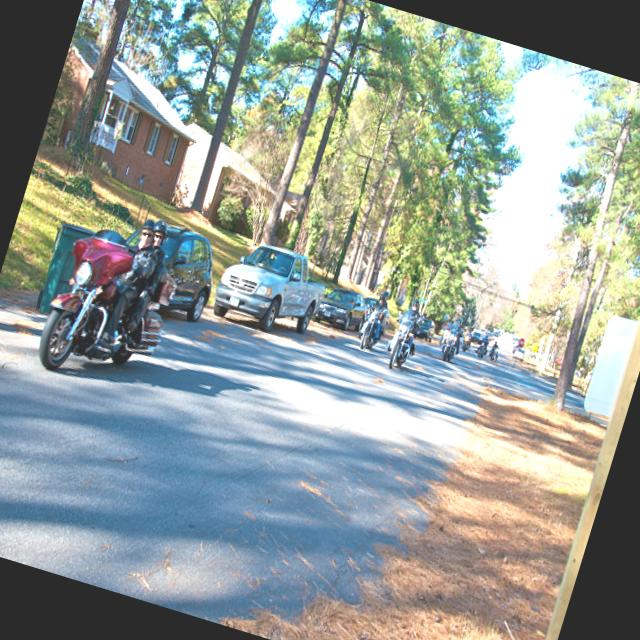Vehicle: (29, 218, 182, 402), (208, 232, 336, 346), (106, 210, 227, 326), (209, 232, 333, 342), (313, 283, 372, 335), (382, 309, 424, 373), (349, 298, 389, 359), (439, 328, 461, 363), (413, 315, 438, 344), (358, 296, 378, 322), (459, 334, 472, 352), (469, 328, 482, 344), (474, 342, 486, 359), (528, 350, 544, 362), (512, 346, 526, 359), (487, 346, 498, 360), (510, 339, 520, 354), (484, 332, 492, 342)
